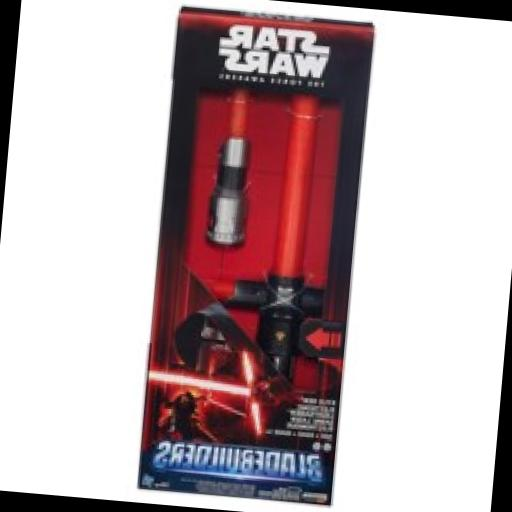sith saber: (217, 91, 347, 418)
